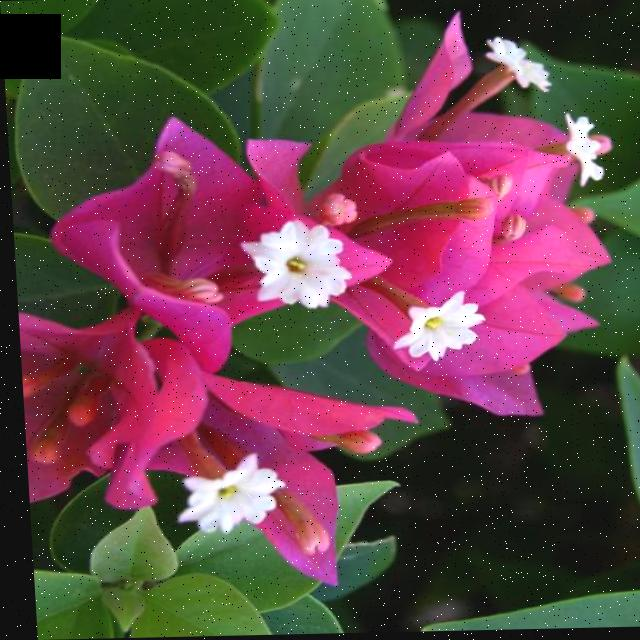bougainvillea: (238, 0, 640, 451), (38, 78, 390, 381), (50, 331, 431, 606), (13, 286, 196, 548)
